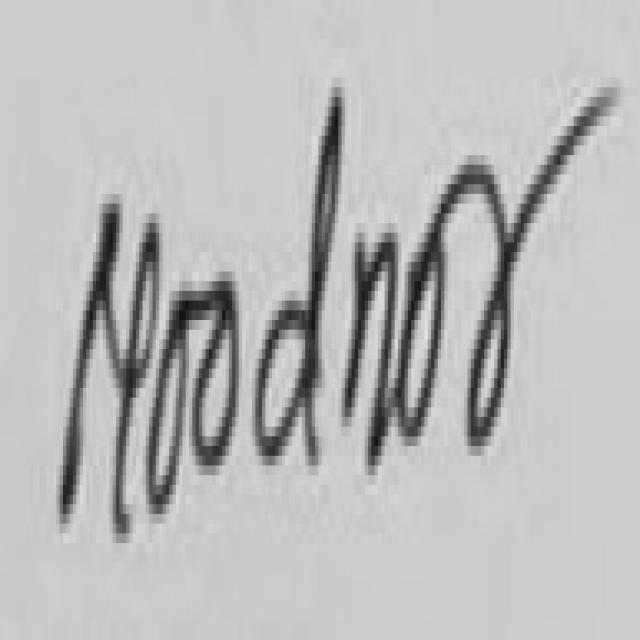M: (60, 204, 159, 528)
d: (259, 97, 345, 465)
n: (345, 233, 398, 461)
o: (398, 213, 448, 436), (149, 301, 192, 514), (196, 281, 239, 465)
r: (471, 87, 617, 441)
